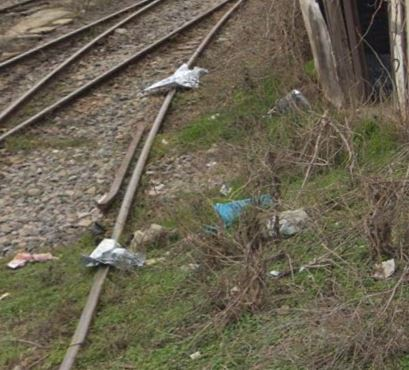trash: (191, 185, 316, 240), (84, 234, 155, 278), (138, 58, 214, 96), (4, 241, 59, 278), (359, 256, 400, 285)
